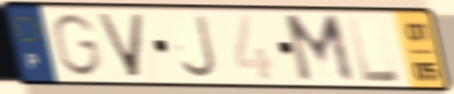4: (232, 12, 278, 83)
G: (49, 11, 105, 79)
J: (178, 13, 221, 81)
L: (345, 15, 404, 85)
M: (281, 12, 359, 86)
V: (92, 11, 149, 80)
